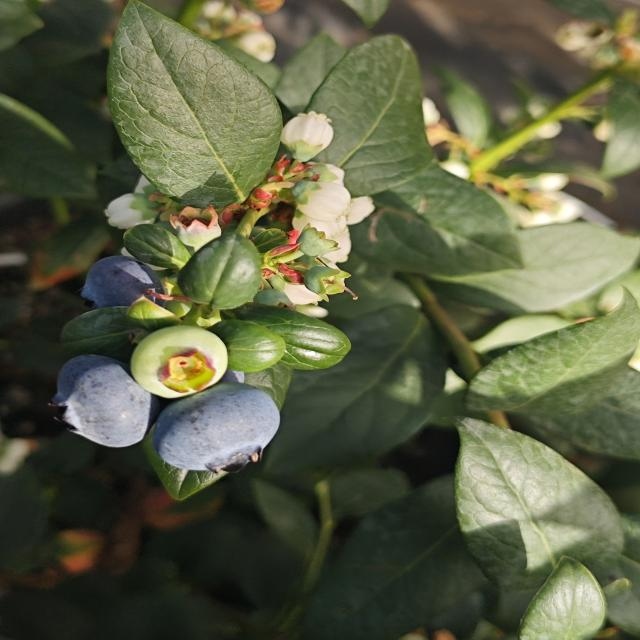ripe: (150, 379, 284, 476), (48, 352, 154, 450), (78, 254, 167, 311)
